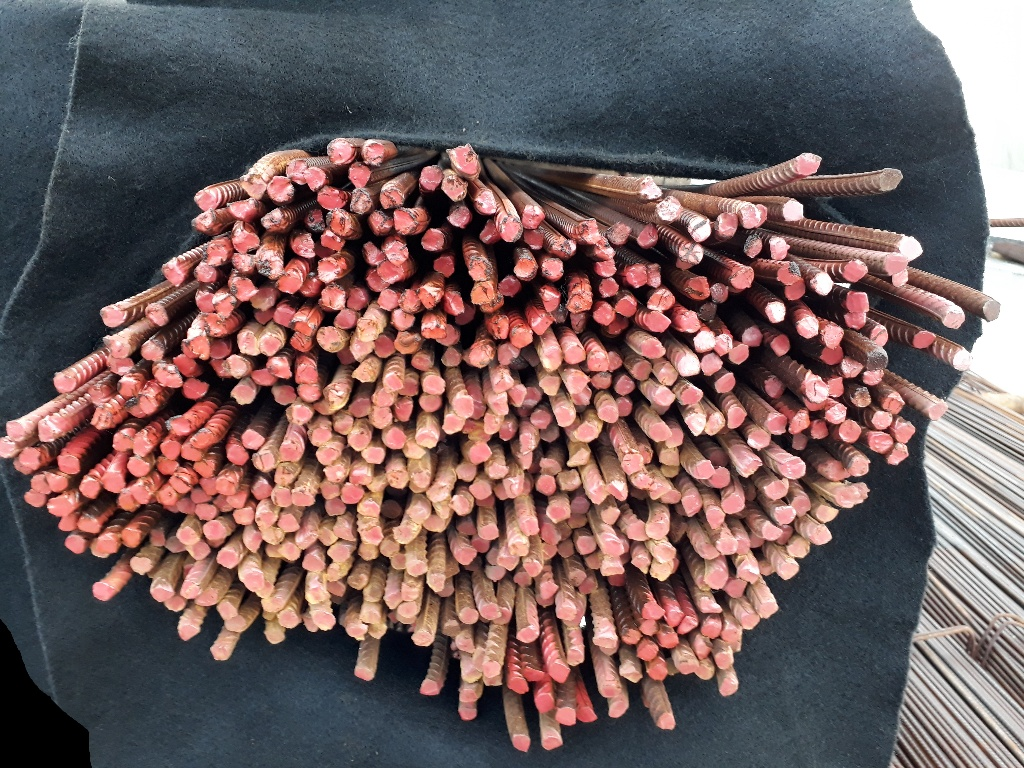dipstick: (185, 311, 237, 337), (447, 143, 481, 177), (833, 482, 872, 509), (354, 513, 387, 543), (151, 359, 182, 388), (179, 334, 213, 360), (404, 493, 433, 523), (325, 138, 356, 166), (321, 382, 351, 410), (418, 279, 445, 310), (349, 331, 376, 362), (315, 185, 346, 211), (226, 198, 261, 221), (461, 417, 493, 442), (123, 393, 156, 417), (441, 174, 469, 202), (326, 209, 354, 237), (316, 325, 344, 353), (498, 214, 525, 243), (238, 173, 267, 200), (168, 464, 195, 493), (284, 402, 316, 426), (232, 227, 260, 254), (319, 284, 347, 311), (655, 195, 683, 222), (266, 175, 295, 201), (293, 525, 322, 551), (760, 476, 790, 501), (46, 493, 76, 518), (393, 331, 424, 355), (163, 414, 195, 437), (390, 208, 417, 235), (575, 217, 602, 244), (484, 313, 511, 340), (190, 208, 218, 234), (377, 259, 405, 285), (236, 328, 262, 356), (182, 375, 210, 401), (674, 310, 707, 332), (229, 277, 258, 302), (466, 343, 495, 368), (726, 265, 755, 290), (160, 257, 184, 287), (172, 353, 202, 377), (102, 335, 132, 359), (890, 417, 916, 444), (619, 449, 645, 476), (690, 632, 716, 659), (408, 467, 435, 493), (332, 514, 358, 541), (201, 242, 229, 267), (683, 276, 711, 301), (399, 435, 427, 460), (129, 479, 157, 504), (468, 281, 497, 305), (820, 460, 853, 481), (520, 205, 546, 231), (368, 210, 394, 236), (497, 341, 523, 367), (898, 235, 924, 261), (76, 509, 102, 535), (17, 445, 43, 471), (5, 417, 31, 443), (419, 164, 444, 191), (383, 241, 410, 266), (148, 578, 175, 603), (420, 313, 445, 340), (43, 468, 70, 493), (719, 492, 747, 516), (423, 481, 455, 502), (270, 381, 298, 405), (225, 354, 253, 378), (111, 428, 139, 452), (55, 453, 83, 477), (212, 291, 235, 320), (132, 428, 155, 457), (598, 534, 629, 555), (302, 166, 327, 192), (193, 187, 219, 212), (737, 204, 763, 229), (808, 272, 834, 297), (691, 328, 717, 353), (819, 324, 845, 349), (886, 443, 912, 468), (787, 408, 812, 434), (702, 411, 727, 437), (546, 660, 572, 685), (343, 618, 369, 643), (277, 436, 303, 461), (258, 332, 284, 357), (347, 161, 371, 188), (361, 239, 385, 266), (537, 285, 561, 312), (805, 376, 829, 403), (844, 290, 871, 314), (677, 352, 701, 379), (467, 441, 494, 465), (330, 410, 354, 437), (354, 318, 381, 342), (139, 338, 166, 362), (565, 290, 593, 313), (591, 634, 619, 657), (384, 467, 412, 490), (314, 444, 342, 467), (51, 370, 79, 393), (103, 356, 135, 376), (642, 311, 671, 333), (794, 152, 823, 174), (667, 515, 689, 544), (229, 382, 258, 404), (249, 286, 279, 307), (348, 188, 373, 213), (514, 257, 539, 282), (193, 288, 218, 313), (629, 357, 654, 382), (420, 227, 446, 251), (446, 205, 472, 229), (275, 271, 301, 295), (678, 240, 704, 264), (837, 419, 863, 443), (845, 452, 871, 476), (654, 363, 680, 387), (555, 469, 581, 493), (273, 460, 299, 484), (267, 355, 293, 379), (273, 302, 297, 328), (116, 487, 140, 513), (293, 231, 316, 258), (640, 335, 667, 358), (605, 222, 632, 245), (638, 178, 665, 201), (768, 234, 791, 261), (867, 431, 894, 454), (682, 410, 705, 437), (503, 470, 526, 497), (309, 609, 336, 632), (339, 481, 366, 504), (380, 426, 407, 449), (746, 428, 774, 450), (735, 456, 763, 478), (325, 560, 353, 582), (27, 472, 55, 494), (303, 207, 327, 232), (261, 206, 285, 231), (193, 260, 218, 284), (400, 287, 424, 312), (145, 302, 169, 327), (486, 391, 510, 416), (840, 258, 864, 283), (794, 315, 819, 339), (552, 403, 577, 427), (449, 394, 474, 418), (302, 585, 332, 605), (369, 405, 394, 429), (292, 362, 322, 382), (373, 333, 397, 358), (154, 480, 178, 505), (35, 419, 60, 443), (89, 405, 114, 429), (523, 225, 546, 251), (317, 256, 340, 282), (364, 268, 390, 291), (479, 219, 502, 245), (763, 374, 786, 400), (878, 168, 904, 191), (781, 457, 807, 480), (678, 383, 704, 406), (485, 391, 511, 414), (116, 376, 142, 399), (378, 186, 405, 208), (474, 189, 496, 216), (286, 158, 308, 185), (770, 504, 797, 526), (393, 522, 420, 544), (413, 426, 440, 448), (420, 371, 447, 393), (95, 532, 122, 554), (602, 314, 630, 335), (495, 549, 523, 570), (451, 545, 479, 566), (485, 460, 513, 481), (354, 498, 382, 519), (189, 428, 217, 449), (469, 258, 493, 282), (700, 352, 724, 376), (849, 384, 873, 408), (764, 411, 788, 435), (704, 507, 728, 531), (448, 493, 472, 517), (226, 443, 250, 467), (361, 140, 384, 165), (321, 229, 346, 252), (541, 258, 566, 281), (585, 348, 610, 371), (563, 371, 588, 394), (443, 290, 466, 315), (688, 215, 711, 240), (780, 197, 803, 222), (776, 262, 801, 285), (763, 300, 788, 323), (714, 369, 737, 394), (839, 355, 864, 378), (786, 535, 811, 558), (572, 419, 597, 442), (467, 478, 492, 501), (497, 417, 520, 442), (379, 499, 404, 522), (315, 521, 338, 546), (411, 348, 436, 371), (435, 323, 460, 346), (290, 331, 315, 354), (102, 468, 125, 493), (637, 223, 659, 249), (742, 234, 764, 260), (882, 253, 908, 275), (705, 466, 731, 488), (202, 519, 228, 541), (91, 580, 117, 602), (307, 425, 333, 447), (391, 396, 413, 422), (417, 391, 443, 413), (351, 362, 377, 384), (99, 304, 126, 325), (604, 480, 631, 501), (617, 662, 644, 683), (231, 506, 258, 527), (251, 451, 278, 472), (346, 397, 373, 418), (333, 308, 360, 329), (549, 240, 577, 260), (647, 289, 675, 309), (841, 310, 869, 330), (696, 596, 724, 616), (592, 301, 615, 325), (531, 311, 554, 335), (715, 213, 738, 237), (741, 323, 764, 347), (942, 308, 966, 331), (926, 399, 950, 422), (790, 494, 813, 518), (704, 567, 728, 590), (649, 557, 672, 581), (521, 553, 544, 577), (250, 475, 273, 499), (127, 454, 151, 477), (63, 532, 87, 555), (79, 474, 102, 498), (85, 384, 108, 408), (510, 325, 535, 347), (626, 262, 648, 287), (711, 332, 733, 357), (868, 408, 893, 430), (652, 383, 677, 405), (680, 492, 702, 517), (700, 616, 722, 641), (635, 640, 660, 662), (646, 656, 668, 681), (302, 551, 327, 573), (268, 484, 293, 506), (216, 548, 241, 570), (241, 428, 266, 450), (346, 285, 367, 311), (514, 623, 540, 644), (711, 536, 738, 556), (563, 449, 593, 467), (290, 487, 317, 507), (21, 487, 48, 507), (650, 543, 678, 562), (250, 366, 278, 385), (291, 316, 319, 335), (376, 288, 399, 311), (540, 347, 563, 370), (951, 348, 974, 371), (823, 375, 846, 398), (521, 385, 544, 408), (483, 411, 506, 434), (120, 526, 143, 549), (432, 256, 456, 278), (498, 275, 522, 297), (481, 292, 505, 314), (866, 348, 888, 372), (725, 578, 749, 600), (230, 252, 255, 273), (537, 375, 562, 396), (819, 344, 844, 365), (777, 559, 802, 580), (653, 710, 678, 731), (575, 534, 600, 555), (347, 431, 372, 452), (156, 454, 181, 475), (295, 383, 324, 401), (882, 392, 908, 412), (706, 448, 732, 468), (640, 600, 666, 620), (546, 504, 572, 524), (276, 540, 302, 560), (254, 511, 280, 531), (322, 464, 348, 484), (360, 446, 386, 466), (807, 525, 834, 544), (422, 514, 449, 533), (175, 623, 202, 642), (259, 257, 282, 279), (454, 304, 477, 326), (808, 418, 831, 440), (613, 373, 635, 396), (241, 529, 263, 552), (439, 346, 462, 368), (159, 438, 182, 460), (297, 276, 321, 297), (825, 402, 849, 423), (644, 519, 668, 540), (585, 484, 609, 505), (577, 574, 601, 595), (441, 413, 465, 434), (326, 543, 354, 561), (381, 371, 405, 392), (771, 333, 791, 358), (910, 329, 935, 349), (647, 420, 672, 440), (756, 599, 781, 619), (538, 456, 563, 476), (276, 607, 301, 627), (276, 512, 301, 532), (194, 588, 219, 608), (215, 475, 240, 495), (252, 307, 277, 327), (361, 583, 387, 602), (185, 541, 211, 560), (358, 606, 385, 624), (868, 325, 890, 347), (535, 474, 557, 496), (629, 553, 651, 575), (593, 238, 616, 259), (564, 344, 587, 365), (658, 445, 681, 466), (607, 699, 630, 720), (583, 549, 604, 572), (569, 495, 592, 516), (241, 570, 264, 591), (179, 579, 202, 600), (212, 493, 235, 514), (785, 278, 805, 302), (861, 367, 885, 387), (758, 521, 782, 541), (718, 673, 738, 697), (457, 605, 481, 625), (130, 556, 154, 576), (735, 565, 760, 584), (624, 520, 649, 539), (560, 609, 585, 628), (533, 541, 558, 560), (476, 522, 501, 541), (470, 647, 489, 672), (409, 628, 434, 647), (355, 541, 380, 560), (324, 497, 349, 516), (319, 479, 344, 498), (224, 615, 249, 634), (260, 525, 285, 544), (175, 525, 200, 544), (631, 472, 657, 490), (600, 557, 626, 575), (348, 467, 374, 485), (371, 388, 397, 406), (664, 426, 686, 447), (598, 505, 620, 526), (529, 409, 551, 430), (455, 631, 477, 652), (492, 604, 514, 625), (455, 460, 476, 482), (88, 536, 109, 558), (727, 344, 750, 364), (728, 406, 748, 429), (690, 458, 713, 478), (538, 523, 561, 543), (378, 537, 401, 557), (518, 431, 538, 454), (514, 449, 534, 472), (216, 600, 239, 620), (226, 489, 249, 509), (1, 436, 21, 459), (590, 371, 614, 390), (816, 504, 840, 523), (508, 539, 532, 558), (300, 612, 319, 636), (263, 626, 287, 645), (194, 502, 218, 521), (334, 346, 358, 365), (541, 734, 566, 752), (506, 677, 531, 695), (511, 570, 536, 588), (323, 579, 348, 597), (364, 473, 389, 491), (646, 262, 663, 288), (802, 394, 828, 411), (180, 443, 206, 460), (470, 534, 491, 555), (521, 346, 541, 368), (709, 282, 729, 304), (695, 658, 715, 680), (566, 511, 588, 531), (565, 567, 587, 587), (563, 647, 585, 667), (534, 693, 556, 713), (518, 517, 540, 537), (426, 571, 446, 593), (254, 580, 276, 600), (675, 655, 698, 674), (538, 580, 561, 599), (478, 602, 501, 621), (418, 678, 441, 697), (175, 497, 198, 516), (522, 664, 546, 682), (458, 665, 482, 683), (352, 665, 377, 682), (455, 518, 480, 535), (599, 277, 619, 298), (701, 540, 722, 560), (714, 649, 734, 670), (556, 538, 576, 559), (555, 706, 576, 726), (383, 589, 403, 610), (491, 480, 511, 501), (197, 475, 218, 495), (595, 258, 617, 277), (982, 300, 1001, 322), (777, 524, 796, 546), (570, 388, 592, 407), (405, 558, 427, 577), (569, 311, 587, 334), (509, 382, 527, 405), (656, 632, 679, 650), (622, 627, 645, 645), (193, 460, 216, 478), (58, 511, 76, 534), (455, 687, 479, 704), (208, 645, 232, 662), (647, 483, 672, 499), (614, 396, 634, 416), (677, 616, 702, 632), (163, 596, 188, 612), (698, 302, 719, 321), (597, 404, 618, 423), (665, 607, 686, 626), (511, 734, 532, 753), (147, 528, 168, 547), (636, 443, 654, 465), (485, 564, 507, 582), (537, 426, 560, 443), (346, 573, 369, 590), (470, 397, 487, 420), (164, 535, 187, 552), (659, 490, 685, 505), (738, 612, 762, 628), (398, 601, 422, 617), (401, 581, 420, 601), (367, 619, 387, 638), (739, 480, 757, 501), (576, 705, 597, 723), (482, 659, 503, 677), (442, 619, 460, 640), (189, 487, 214, 502), (491, 376, 514, 392), (720, 626, 743, 642), (638, 618, 658, 636), (696, 572, 713, 593), (598, 683, 623, 697), (260, 597, 285, 611), (555, 605, 578, 620), (758, 558, 777, 576), (390, 554, 410, 571), (534, 592, 555, 608), (791, 432, 808, 451), (484, 546, 501, 565), (435, 582, 454, 599), (607, 350, 623, 370), (608, 572, 628, 588), (264, 542, 284, 558), (734, 535, 749, 556), (455, 707, 479, 720), (395, 611, 419, 624), (892, 269, 909, 287), (755, 202, 767, 226), (661, 463, 680, 478), (553, 304, 567, 323), (520, 476, 532, 497), (749, 531, 764, 547), (516, 404, 531, 417)
